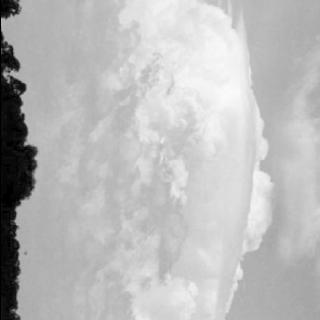Cumulonimbus: (39, 0, 320, 320)
